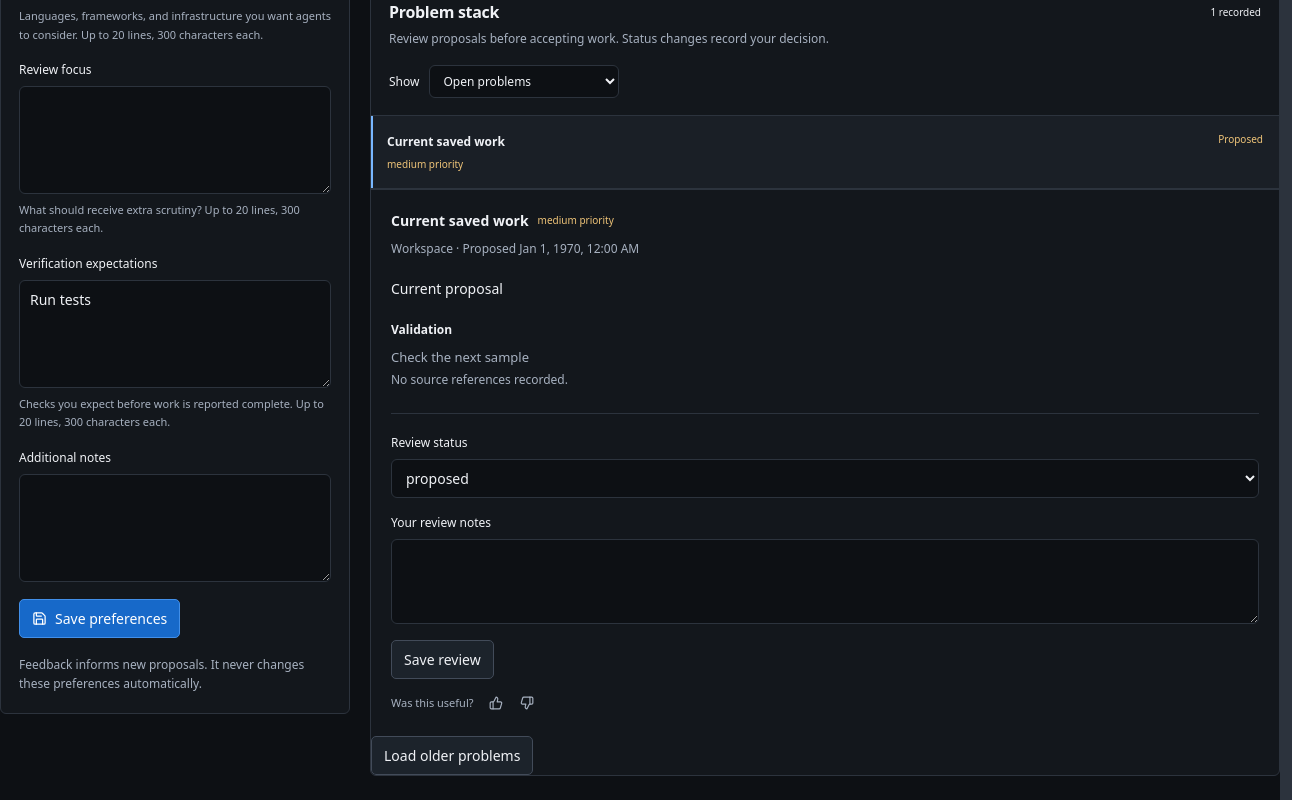
it: persistent Studio interfaces › loads older problems without duplicating records already in the overview
This screenshot has width=1292, height=800.
(page scrolled)
Click the button "Load older problems" at (452, 756), box [371, 736, 533, 775]
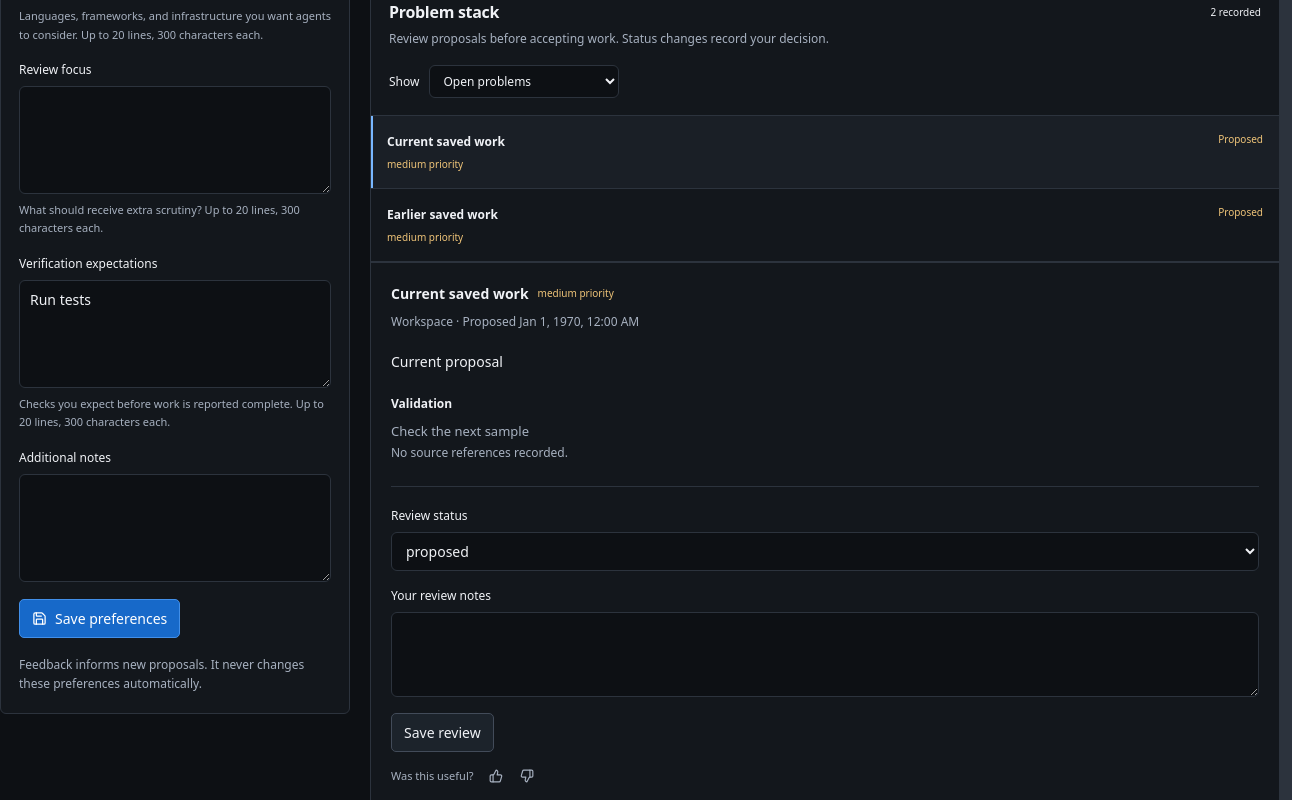
Expected: the button "Earlier saved work medium priority proposed" is shown, [371, 189, 1279, 262]
Expected: the number of buttons "Current saved work medium priority proposed" is 1, [371, 116, 1279, 189]
